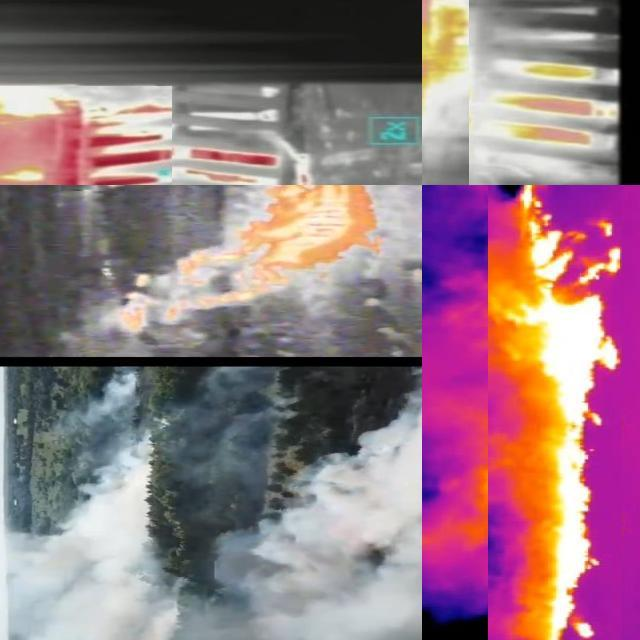fire: (489, 186, 623, 640), (114, 186, 382, 332), (1, 86, 173, 186), (423, 1, 470, 186)
